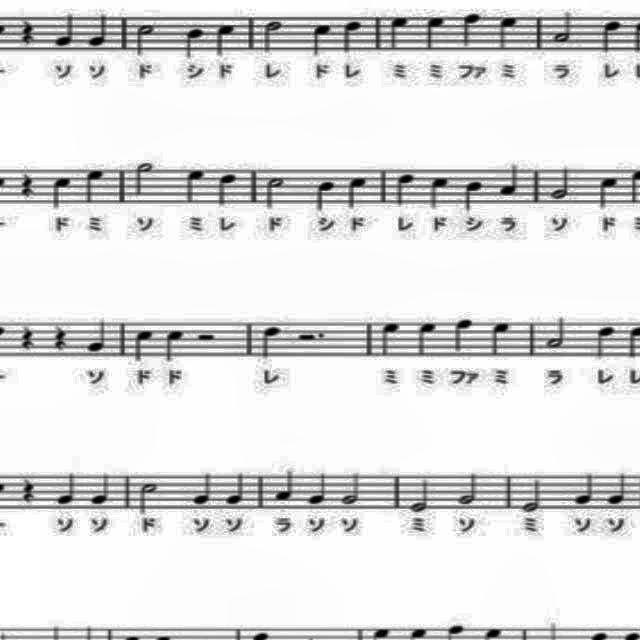Half-note: (130, 16, 158, 64), (407, 474, 438, 514), (132, 157, 158, 199), (338, 469, 366, 507), (457, 468, 483, 508), (518, 476, 544, 516), (550, 9, 578, 46), (258, 18, 286, 54), (544, 315, 570, 353), (136, 480, 162, 516), (264, 173, 288, 211), (550, 166, 574, 202)
Half-rest: (194, 329, 222, 347), (296, 330, 328, 342)
Quarter-note: (84, 8, 112, 52), (596, 16, 624, 60), (488, 317, 516, 359), (592, 322, 620, 363), (180, 164, 206, 208), (53, 9, 79, 51), (422, 13, 450, 52), (426, 174, 452, 214), (272, 468, 298, 508), (596, 170, 620, 213), (414, 316, 438, 359), (213, 23, 240, 61), (496, 13, 520, 55), (49, 173, 73, 215), (130, 324, 154, 366), (450, 316, 474, 358), (88, 468, 112, 510), (190, 469, 214, 511), (257, 323, 283, 361), (603, 469, 629, 507), (164, 324, 186, 368), (461, 11, 484, 53), (310, 20, 334, 60), (214, 170, 238, 210), (394, 169, 418, 209), (376, 320, 400, 360), (52, 470, 76, 510), (222, 470, 246, 510), (306, 468, 330, 508), (570, 472, 596, 508), (84, 164, 105, 208), (312, 177, 336, 215), (496, 161, 520, 199), (386, 13, 409, 52), (346, 172, 368, 212), (341, 19, 364, 57), (461, 177, 484, 215), (86, 318, 110, 354), (183, 26, 205, 60)
Quarter-rest: (18, 166, 38, 202), (16, 18, 38, 50), (50, 321, 70, 354), (18, 320, 36, 356), (20, 474, 36, 510)
